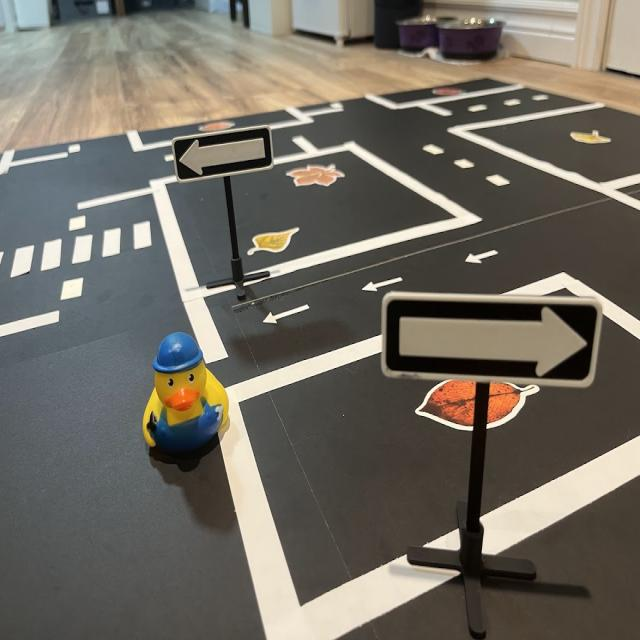duck_specialty: (144, 333, 229, 448)
road_crosswalk: (2, 215, 158, 286)
road_oneway: (257, 297, 317, 331), (360, 269, 408, 304), (459, 242, 503, 272)
sign_oneway_left: (175, 123, 275, 181)
sign_oneway_right: (383, 295, 605, 392)
